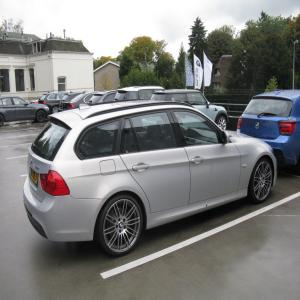Vehicle-registration-plate: (29, 168, 40, 188)
